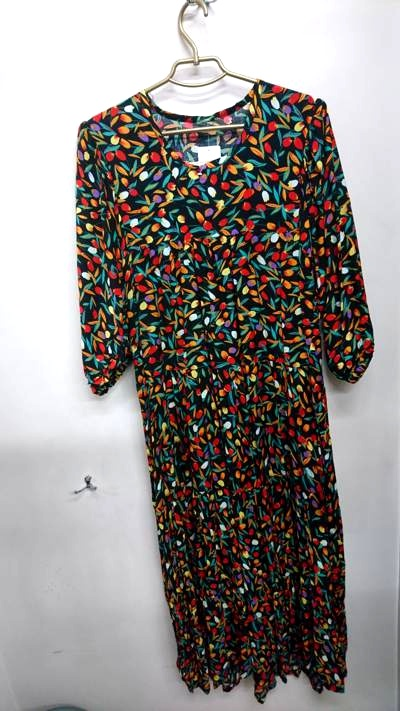Dress: (53, 55, 394, 679)
